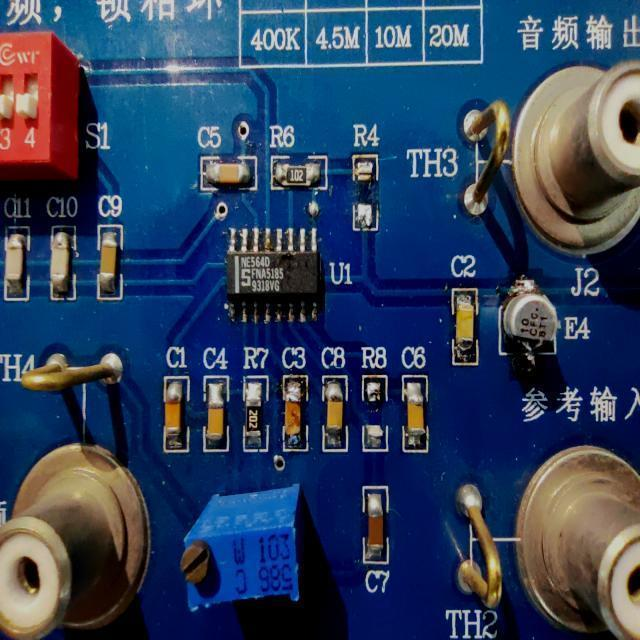Missing component: (354, 338, 396, 459), (349, 120, 383, 236)
